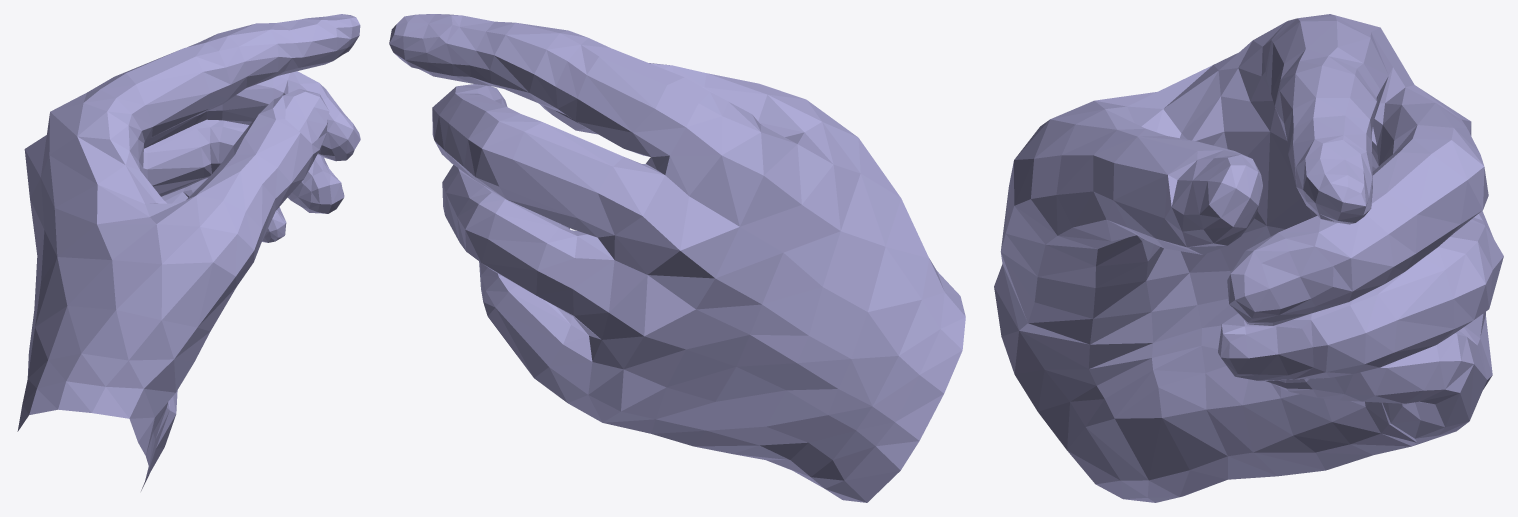
File: hand_0054.glb
The picture shows the model from 3 angles, left to right: view 1: azimuth 30°, elevation 25°; view 2: azimuth 150°, elevation 25°; view 3: azimuth 270°, elevation 25°; orthographic projection. The views are drawn at different scales.
Parts seen in each view (by area): view 1: world; view 2: world; view 3: world.
Boxes of the visible parts, x1,y1,x2,y2 form: world: [17, 14, 360, 490]; world: [389, 14, 965, 502]; world: [994, 14, 1503, 502].
Size of the model in its own units: 0.1309 by 0.1174 by 0.095.
